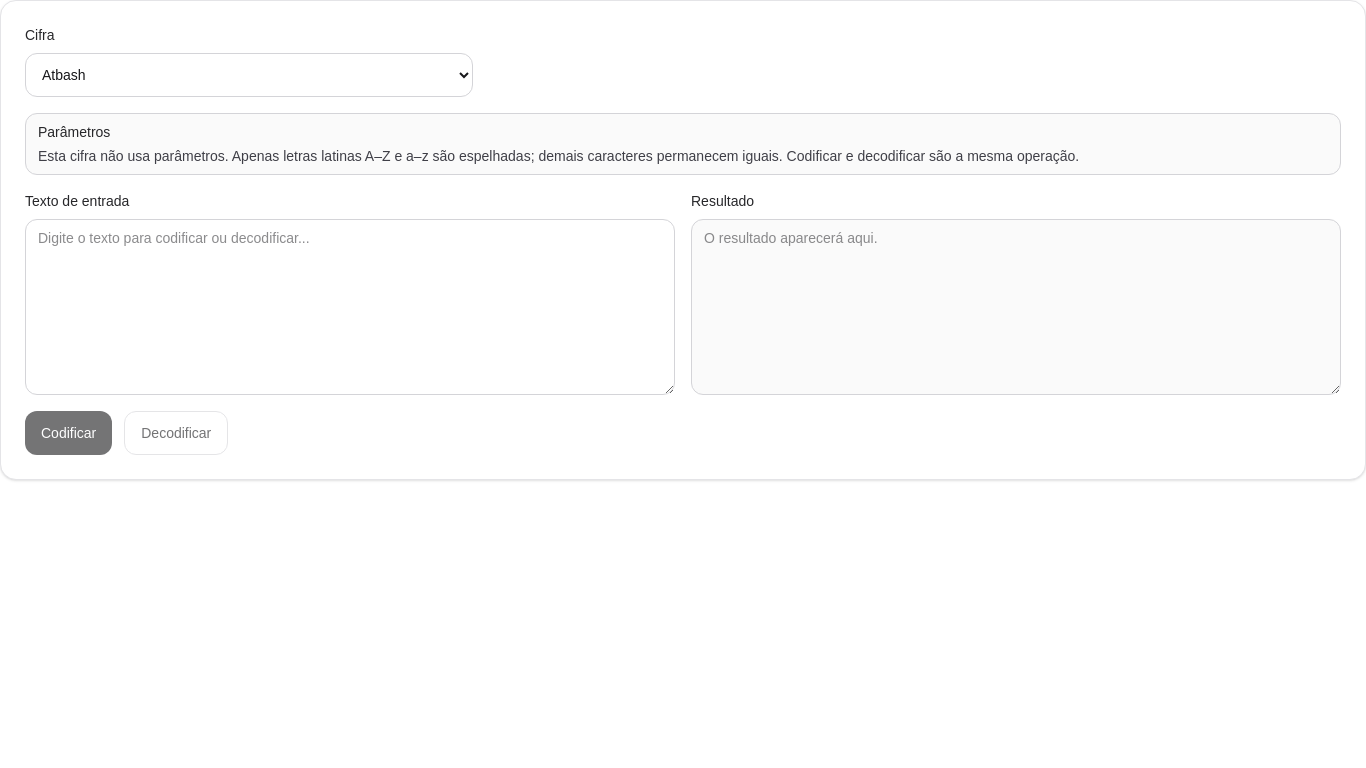
Test: CipherWorkspace › exibe erro em português ao decodificar Morse inválido
Step 1. Select "Morse" in the dropdown labelled "Cifra" → (249, 75), box 25,53 -> 473,97
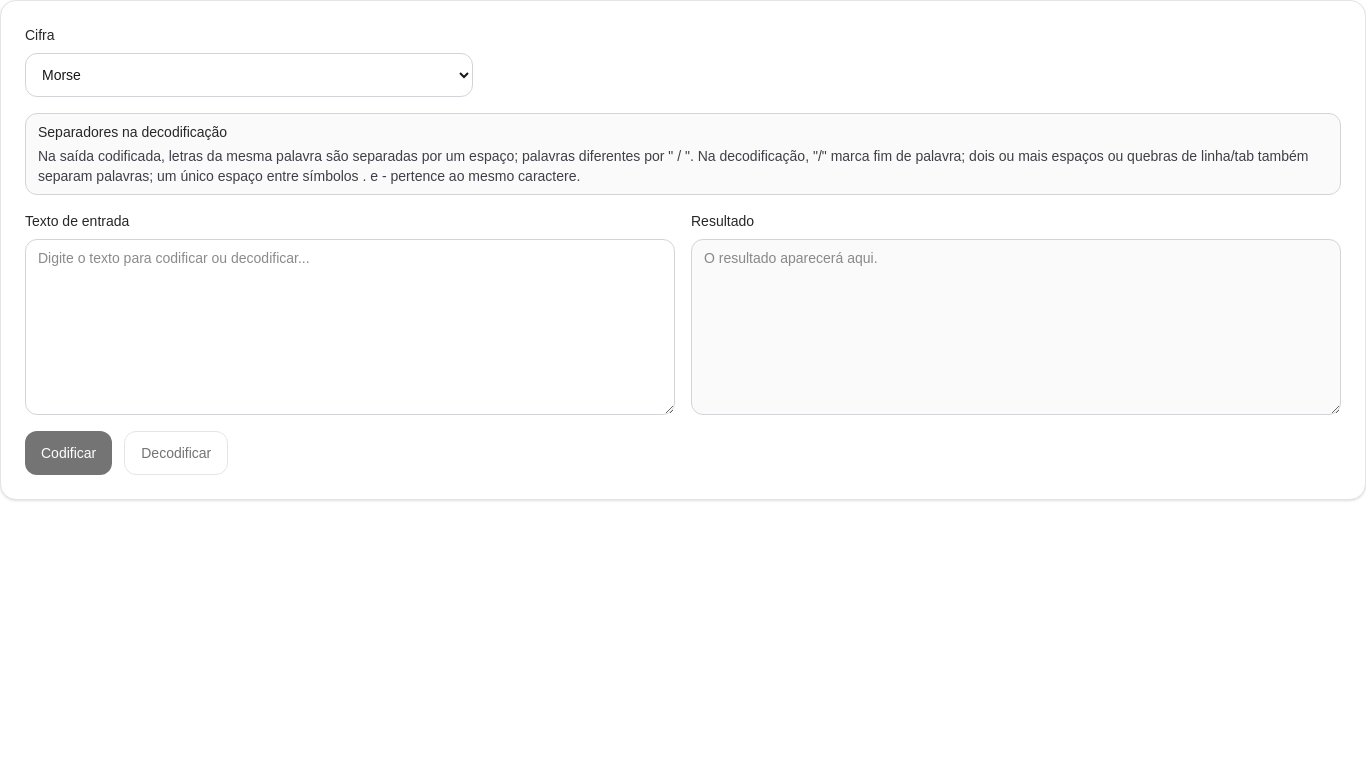
Step 2. Type "..-.-" into the text box labelled "Texto de entrada" → (350, 327), box 25,239 -> 675,415
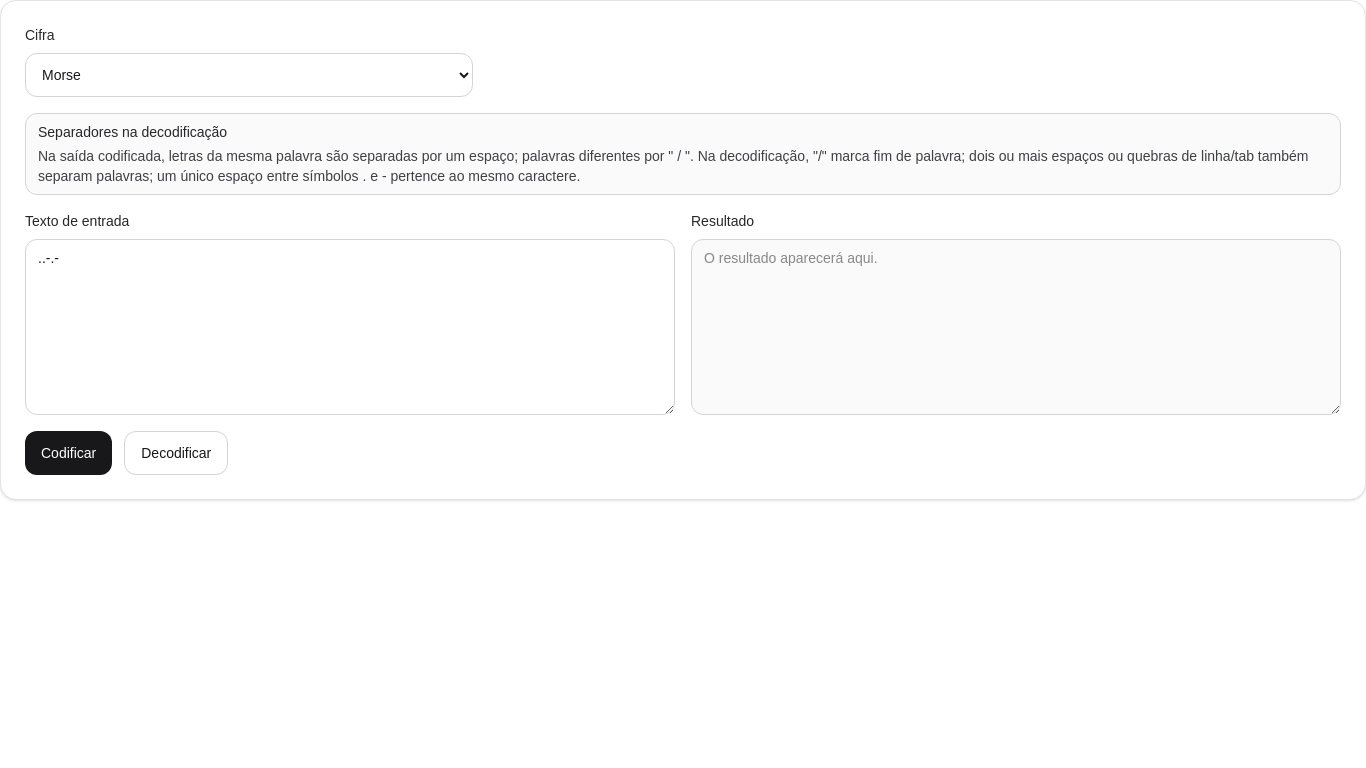
Step 3. Click the button "Decodificar" → click(176, 453), box 124,431 -> 228,475
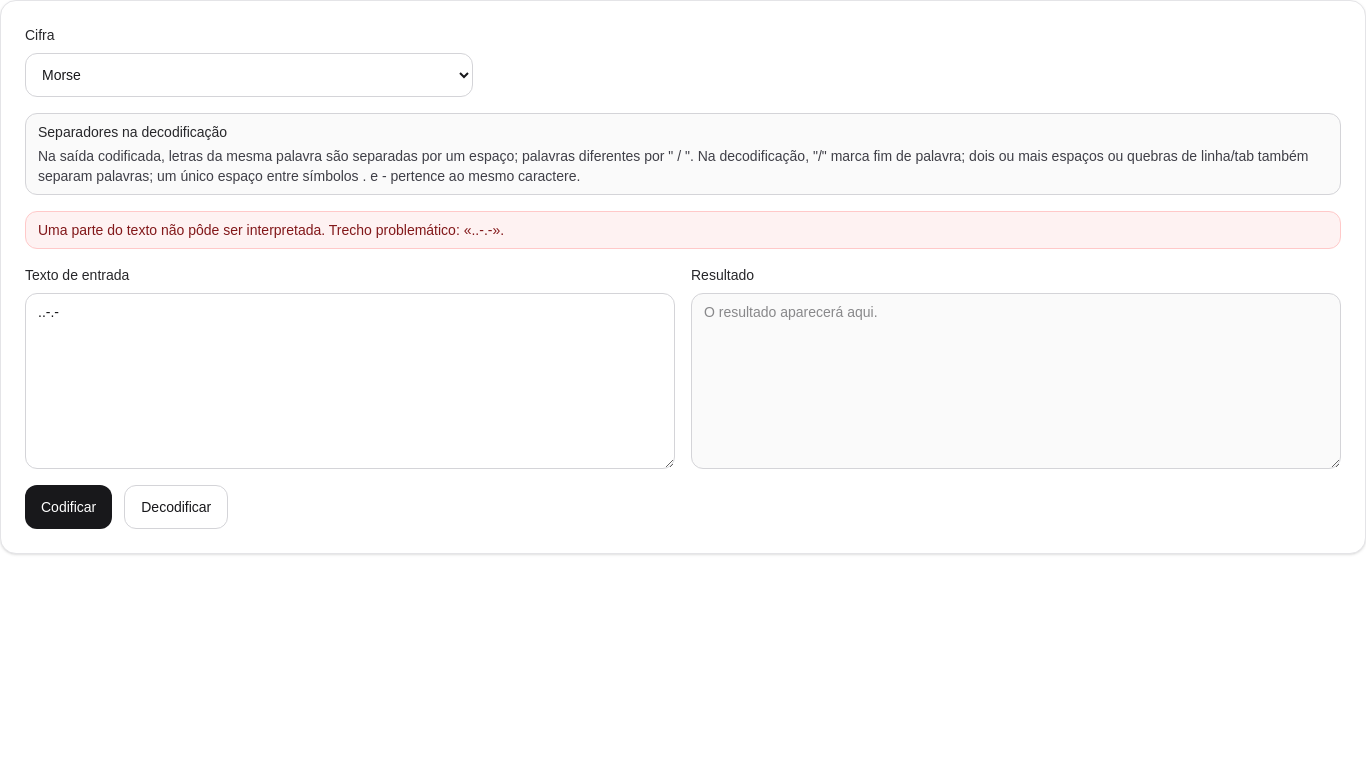
Expected: the text box labelled "Resultado" is empty, 691,293 -> 1341,469
Expected: the message shows "interpretada", 38,222 -> 504,238
Expected: the message shows "..-.-", 38,222 -> 504,238
